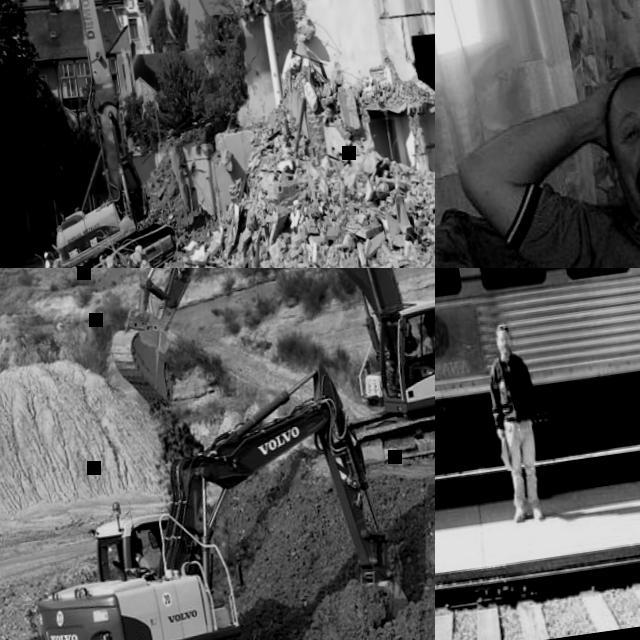helmet: (42, 250, 49, 260)
vest: (132, 554, 152, 576), (415, 336, 434, 357), (42, 259, 51, 268)
